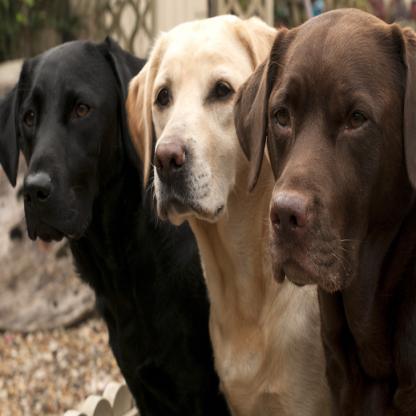dog: (1, 43, 229, 416), (127, 16, 330, 415), (234, 7, 416, 416)
